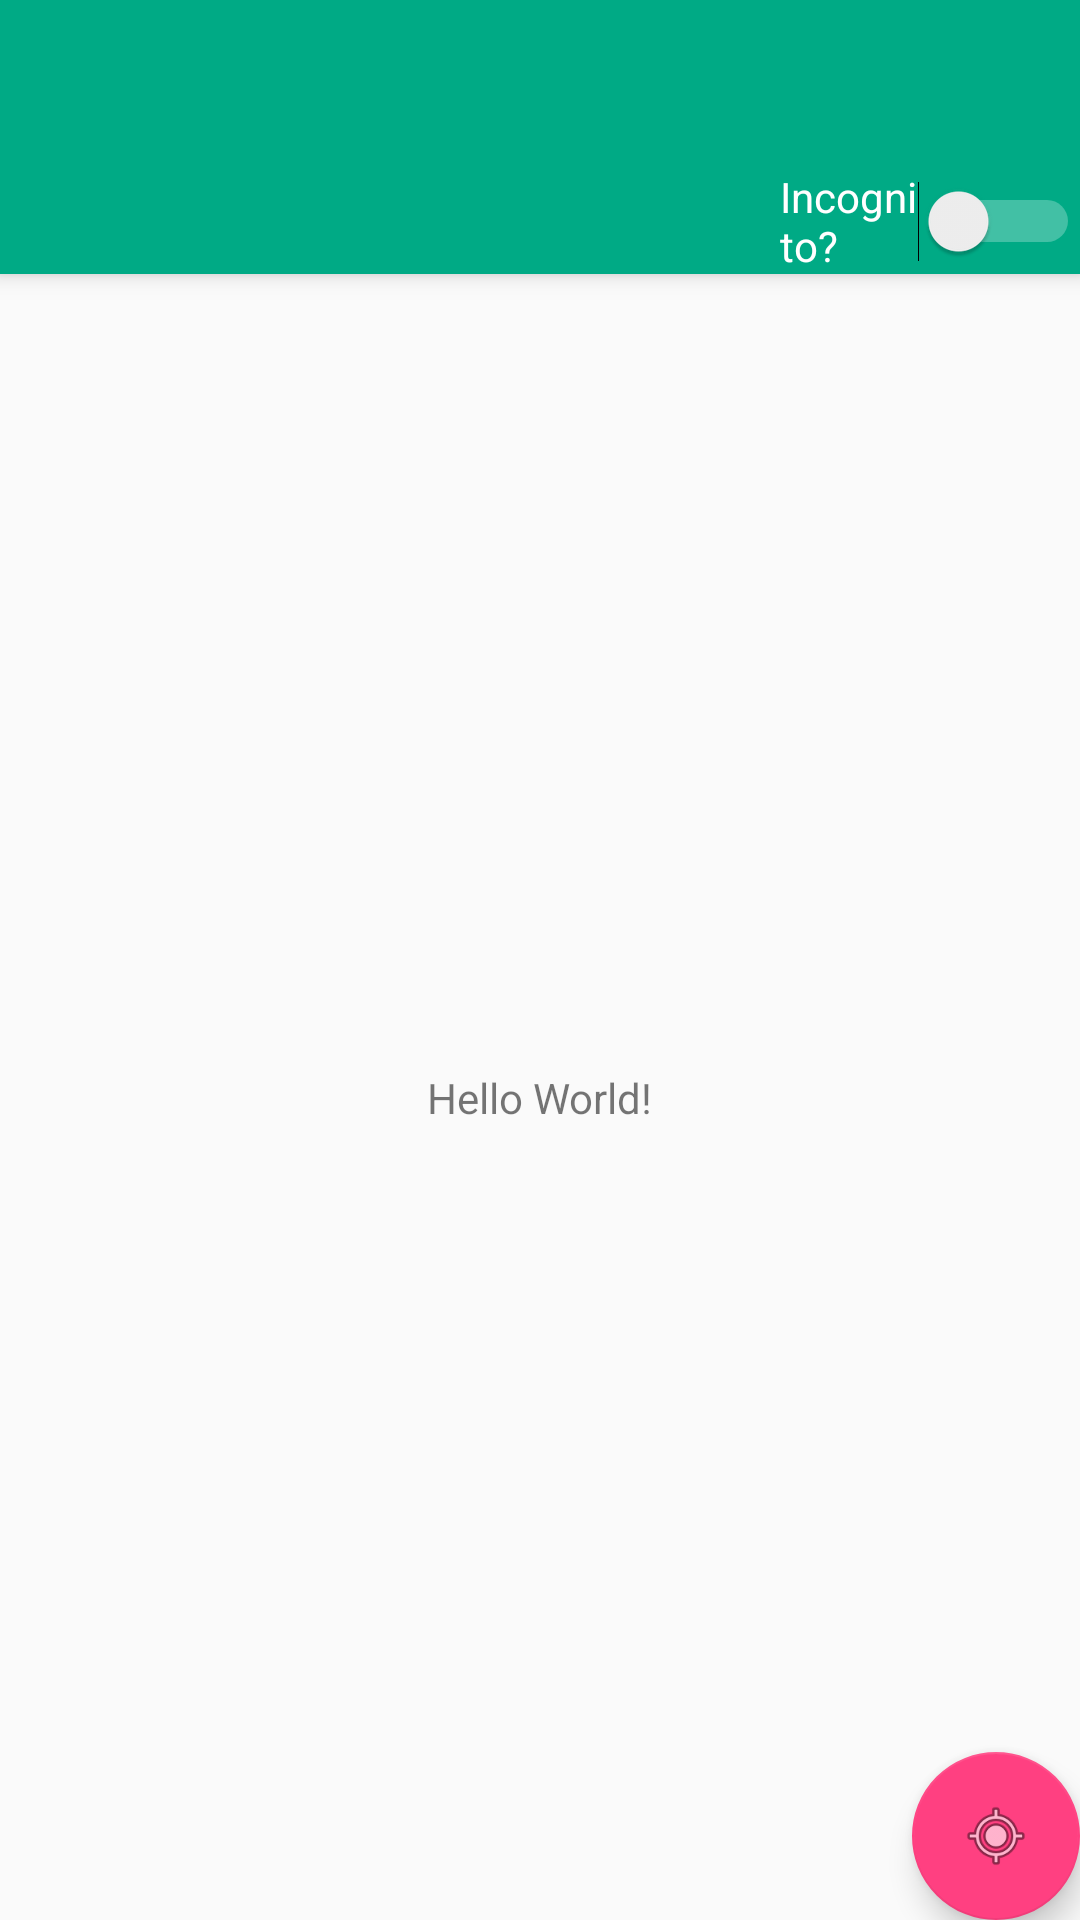

Point at icon controls on the screen. Image size 1080px×1920px, points as point (x, y).
mylocation: point (996, 1836)
